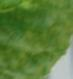Tomato leaf mosaic virus: (0, 0, 71, 79)
